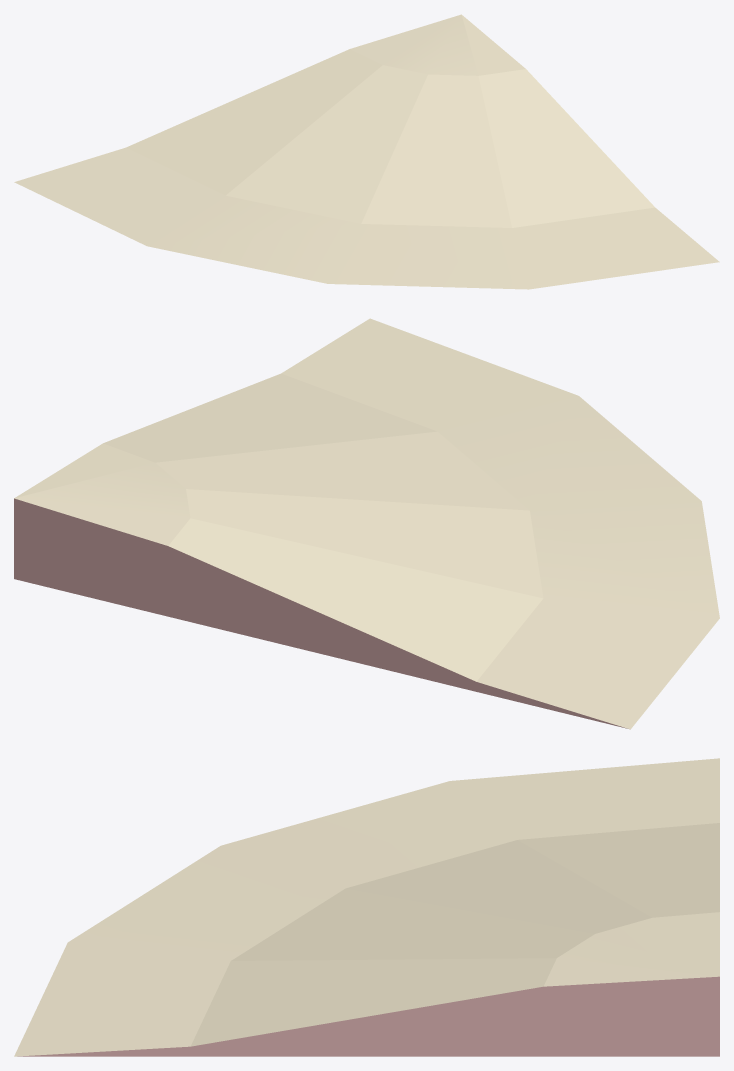
The model's file is Terrain_Sand_Incline_Curve_Outer_4x4.glb.
The picture shows the model from 3 angles, top to bottom: view 1: azimuth 30°, elevation 25°; view 2: azimuth 150°, elevation 25°; view 3: azimuth 270°, elevation 25°; orthographic projection. The views are drawn at different scales.
Visible parts, largest first — view 1: Terrain_Sand_Incline_Curve_Outer_4x4; view 2: Terrain_Sand_Incline_Curve_Outer_4x4; view 3: Terrain_Sand_Incline_Curve_Outer_4x4.
Boxes of the visible parts, x1,y1,x2,y2 form: Terrain_Sand_Incline_Curve_Outer_4x4: [14, 14, 719, 289]; Terrain_Sand_Incline_Curve_Outer_4x4: [14, 318, 719, 729]; Terrain_Sand_Incline_Curve_Outer_4x4: [14, 758, 719, 1056].
Bounding box in the file's own units: 400 × 50 × 400.
